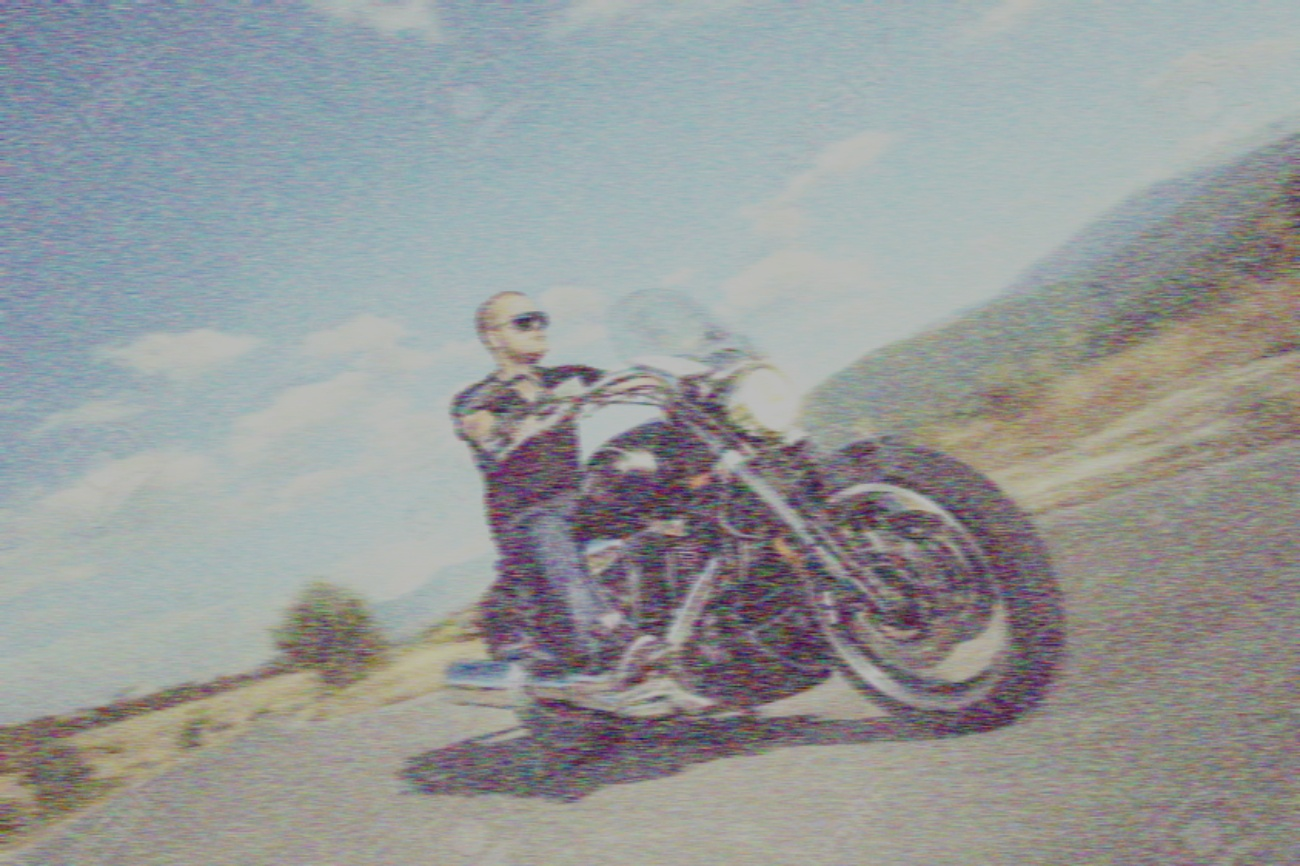Vehicle: (440, 283, 1085, 767)
